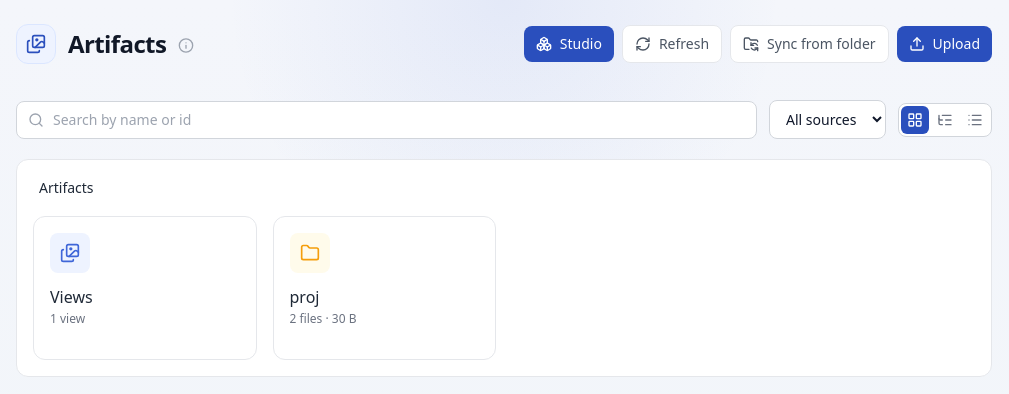
it: Artifacts page › switches to the flat list and remembers the choice
The image size is (1009, 394).
Expected: the text "proj" is shown, 290,286 -> 319,308
Click the button named "List": (975, 120) 961,106 -> 989,134
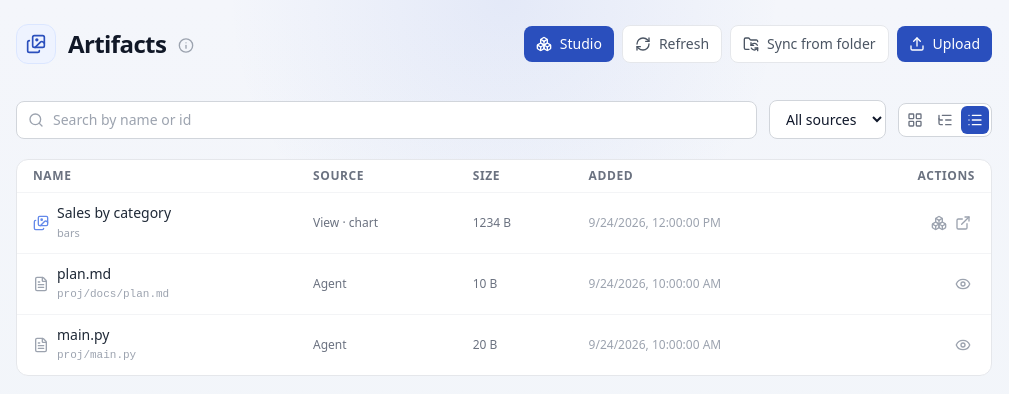
Expected: the table is shown, 17,160 -> 991,375
Expected: the text "main.py" is shown, 57,325 -> 109,344
Expected: the text "proj/docs/plan.md" is shown, 57,284 -> 169,304
